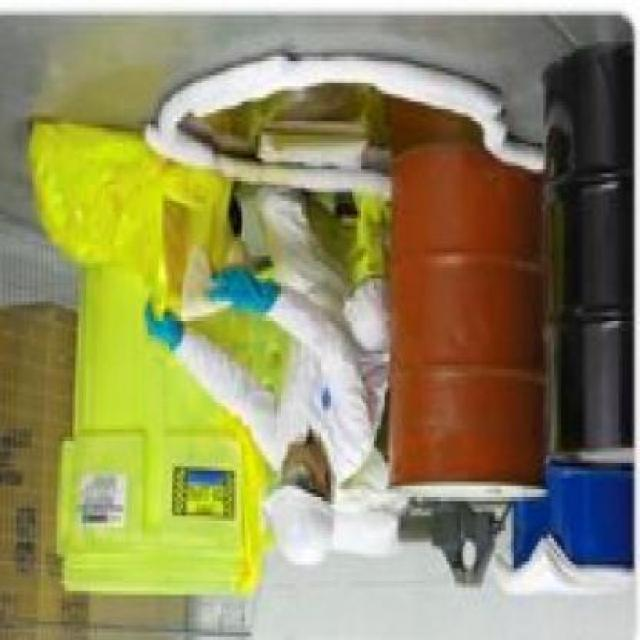spillage: (191, 83, 484, 166)
